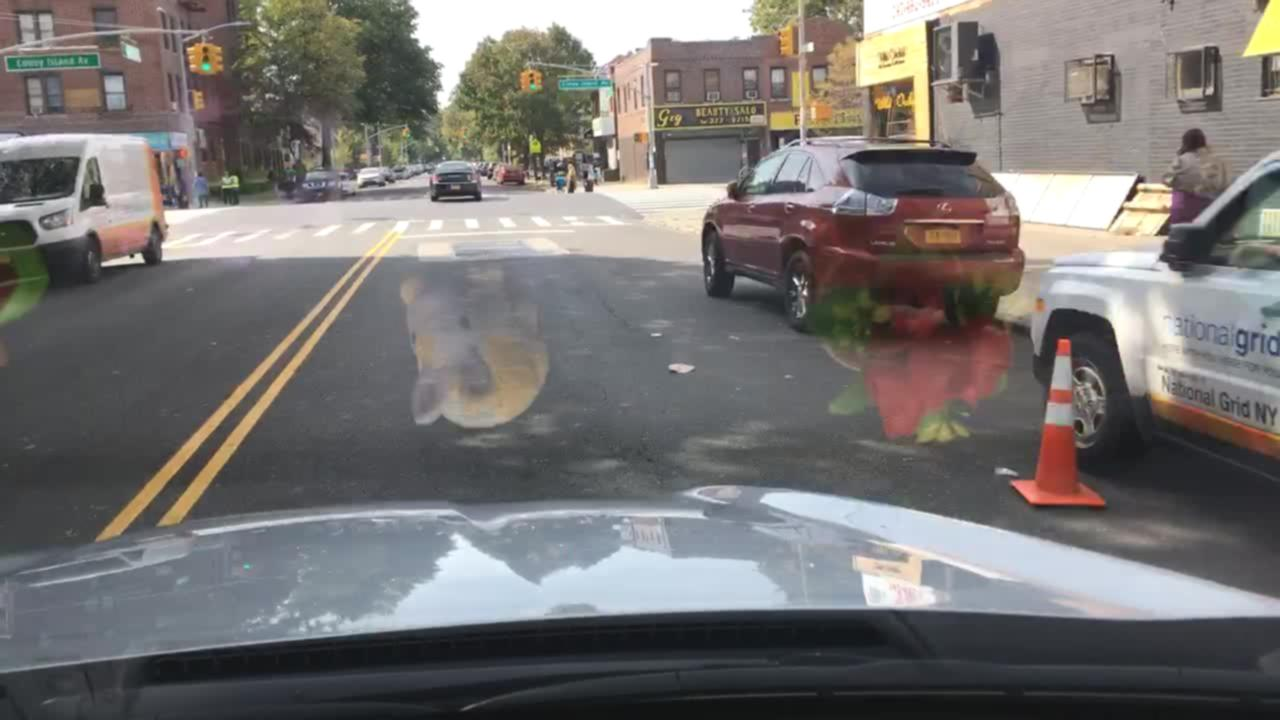lexus: (929, 192, 961, 223)
